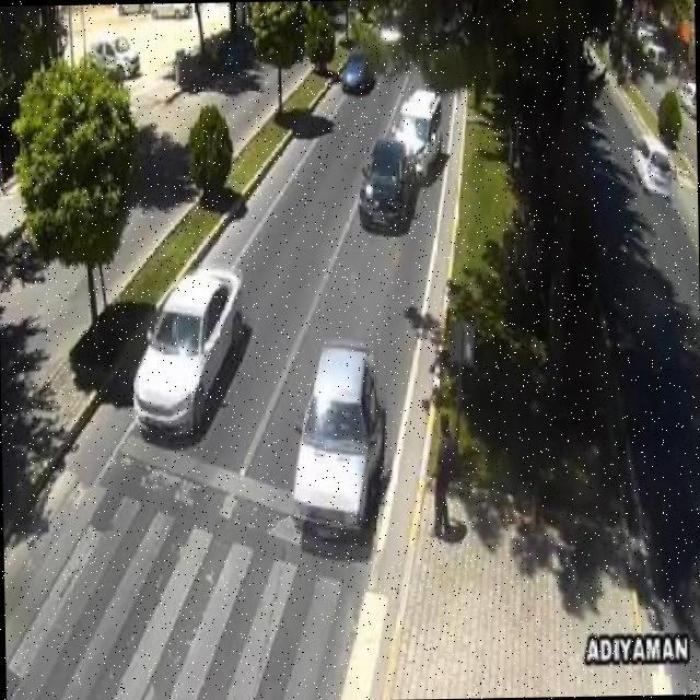Accident: (357, 87, 448, 245)
